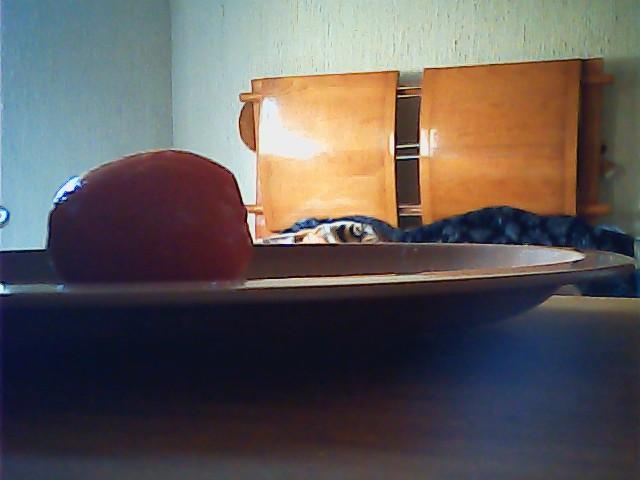maduro: (46, 149, 250, 285)
